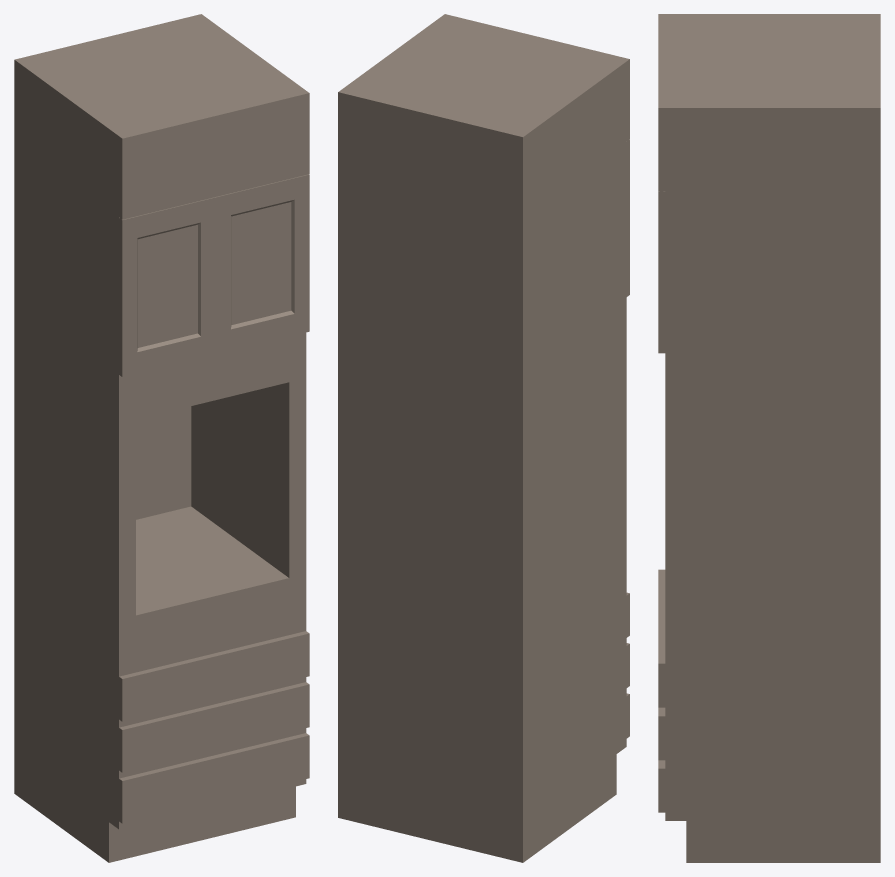
Rendered from Oven-Cabinet-24-Deep_std_001_W24in_1D.glb.
3 renders of one model, left to right at view 1: azimuth 30°, elevation 25°; view 2: azimuth 150°, elevation 25°; view 3: azimuth 270°, elevation 25°, orthographic. The views are drawn at different scales.
Visible parts, largest first — view 1: Oven-Cabinet-24-Deep.std.001_W24in_1D; view 2: Oven-Cabinet-24-Deep.std.001_W24in_1D; view 3: Oven-Cabinet-24-Deep.std.001_W24in_1D.
Boxes of the visible parts, x1=… form: Oven-Cabinet-24-Deep.std.001_W24in_1D: x1=14, y1=14, x2=309, y2=862; Oven-Cabinet-24-Deep.std.001_W24in_1D: x1=338, y1=14, x2=629, y2=862; Oven-Cabinet-24-Deep.std.001_W24in_1D: x1=658, y1=14, x2=880, y2=862.
Bounding box in the file's own units: 0.6096 × 2.29 × 0.6096.
